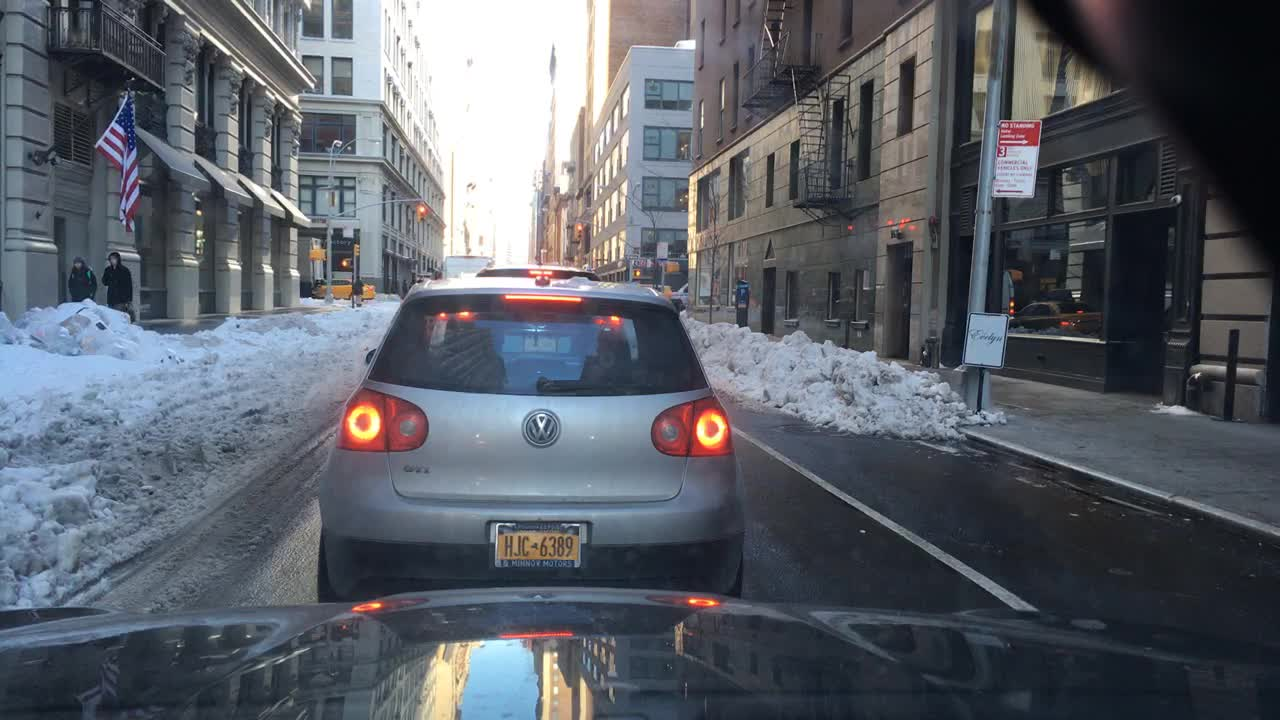car: (315, 278, 748, 623), (478, 266, 603, 278), (311, 278, 369, 300), (671, 280, 688, 308)
person: (101, 251, 134, 323), (71, 257, 95, 302), (351, 275, 361, 305), (399, 278, 409, 296)
traffic light: (574, 224, 583, 242), (311, 247, 324, 259), (628, 268, 640, 280), (339, 257, 352, 268), (417, 202, 424, 218), (352, 242, 358, 256)
traffic sign: (992, 121, 1040, 194)
truck: (436, 254, 493, 278)
